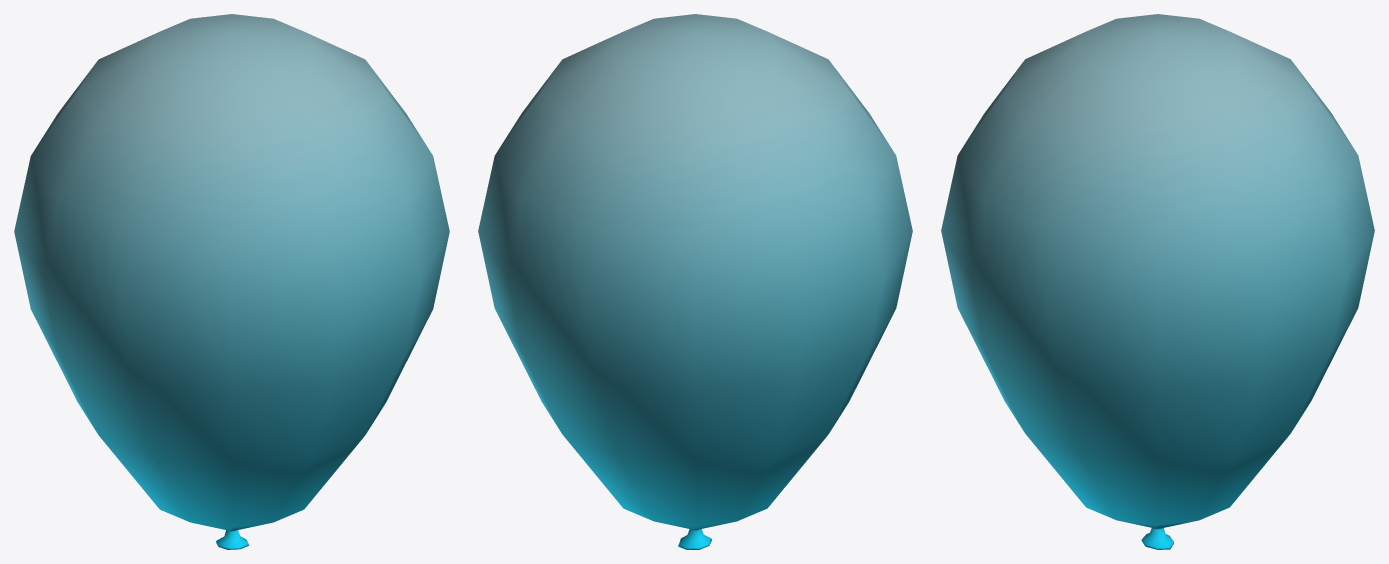
The model's file is SM_balloon_blue_light.fbx.
3 views of the same model, side by side, from view 1: azimuth 30°, elevation 25°; view 2: azimuth 150°, elevation 25°; view 3: azimuth 270°, elevation 25° (orthographic).
Parts seen in each view (by area): view 1: Cube.005; view 2: Cube.005; view 3: Cube.005.
Boxes of the visible parts, x1,y1,x2,y2 form: Cube.005: [14, 14, 449, 549]; Cube.005: [478, 14, 912, 549]; Cube.005: [941, 14, 1374, 549].
Size of the model in its own units: 121 by 157 by 121.
